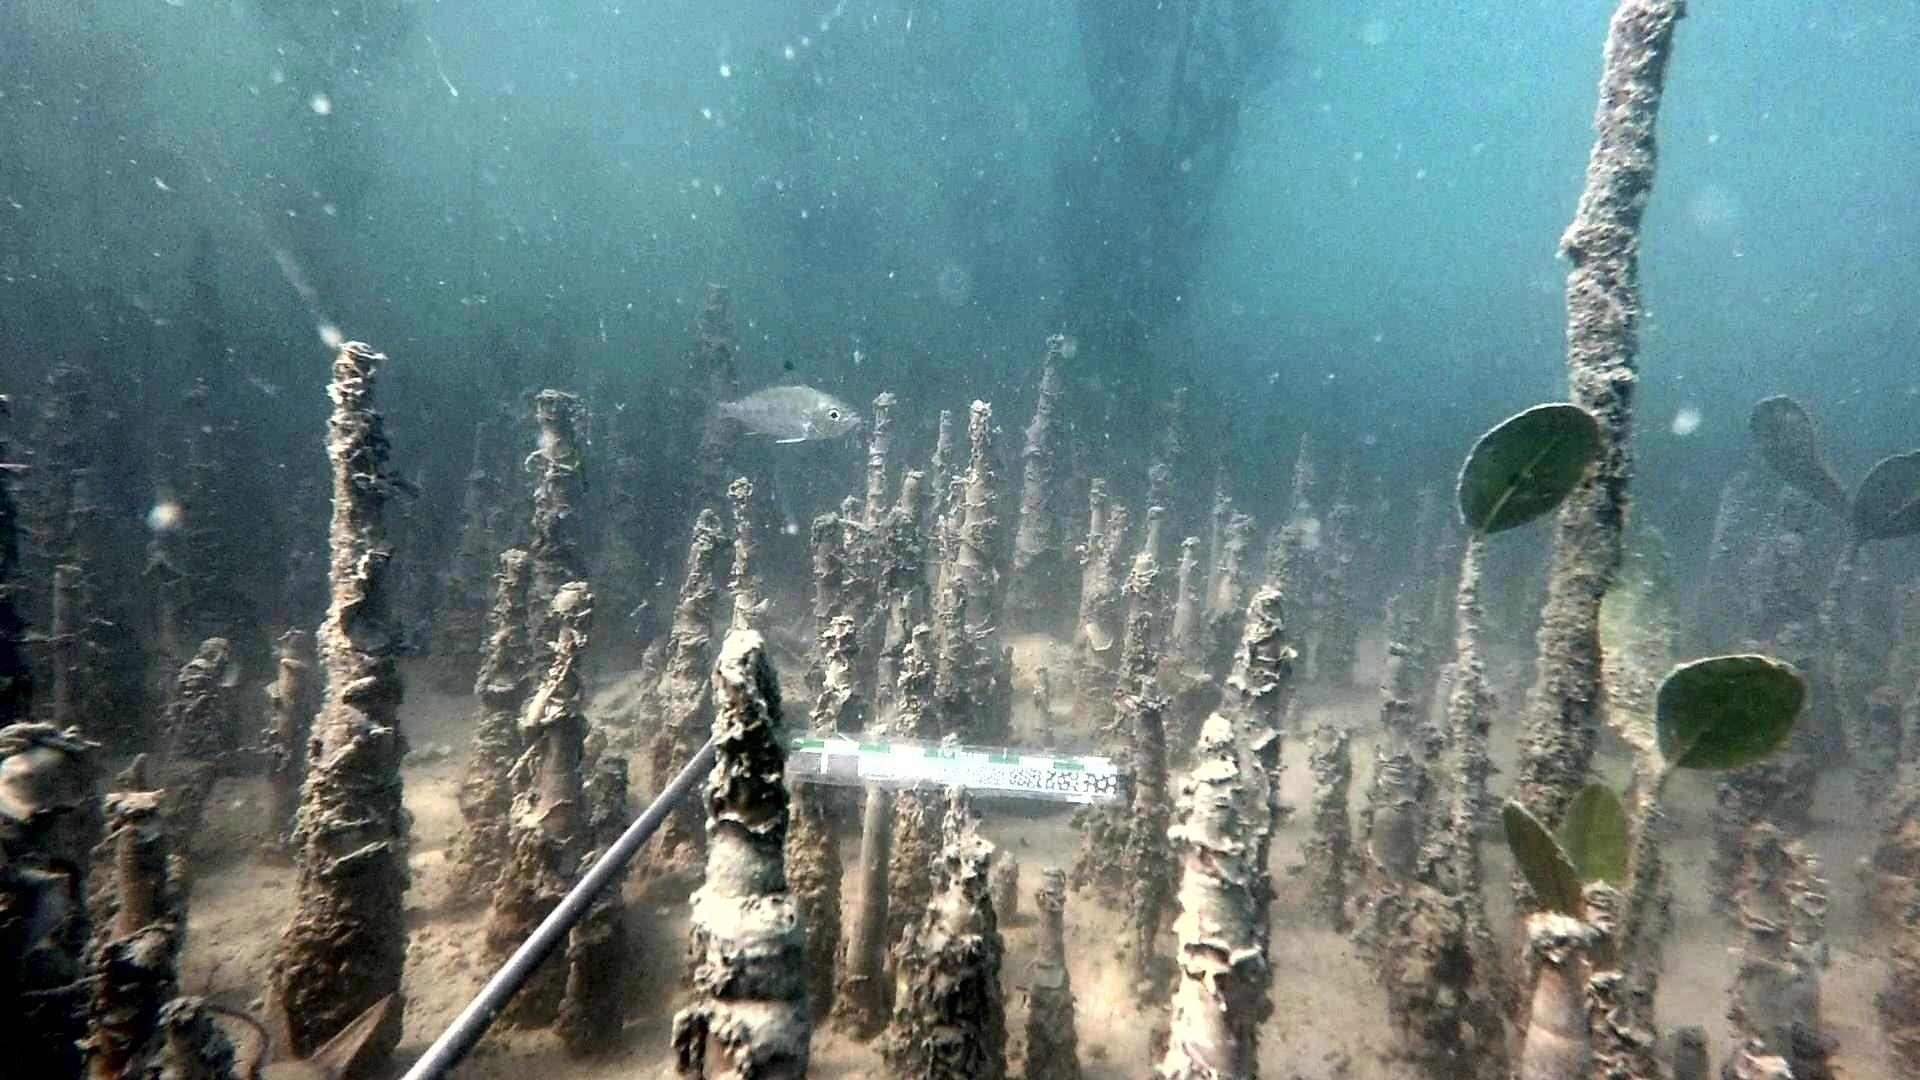gerres: (693, 356, 865, 447)
